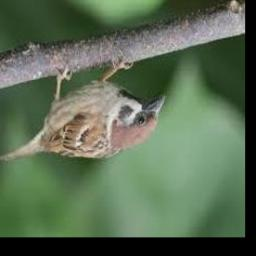Sparrow: (0, 59, 165, 162)
